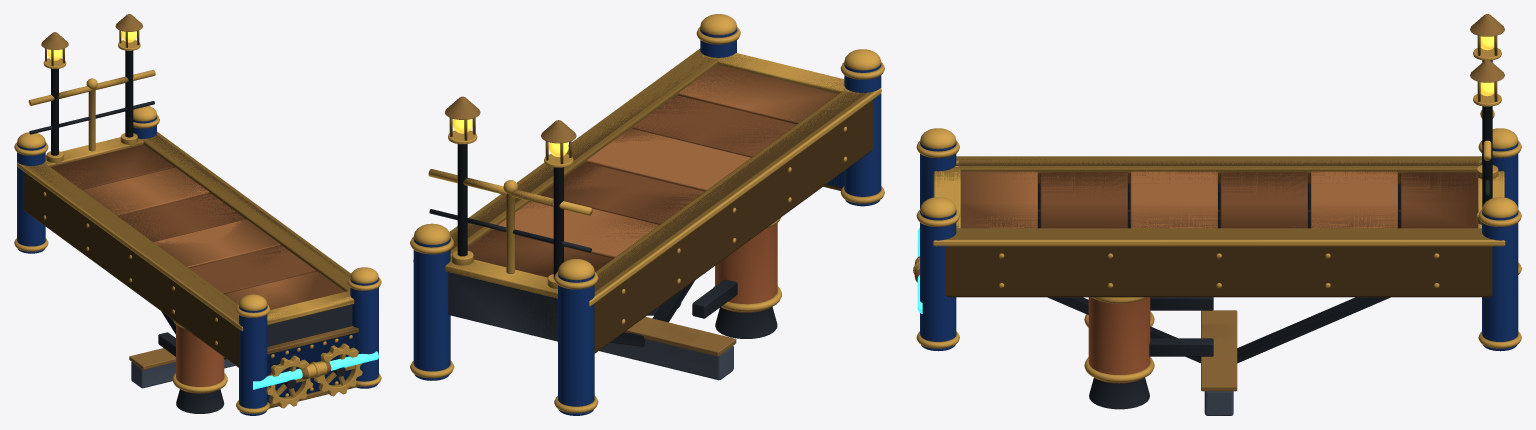
The model's file is platform.glb.
3 views of the same model, side by side, from view 1: azimuth 30°, elevation 25°; view 2: azimuth 150°, elevation 25°; view 3: azimuth 270°, elevation 25° (orthographic). The views are drawn at different scales.
Parts seen in each view (by area): view 1: CapL, CapR, DeckMid; view 2: CapL, DeckMid, CapR; view 3: CapR, DeckMid, CapL.
Boxes of the visible parts, x1,y1,x2,y2 form: CapL: (14, 32, 316, 415); CapR: (87, 14, 381, 397); DeckMid: (28, 70, 378, 408); CapL: (503, 49, 884, 415); DeckMid: (428, 53, 858, 380); CapR: (410, 14, 790, 380); CapR: (914, 60, 1521, 409); DeckMid: (913, 110, 1504, 415); CapL: (914, 14, 1521, 344).
Size of the model in its own units: 1.14 by 2.07 by 3.36.
